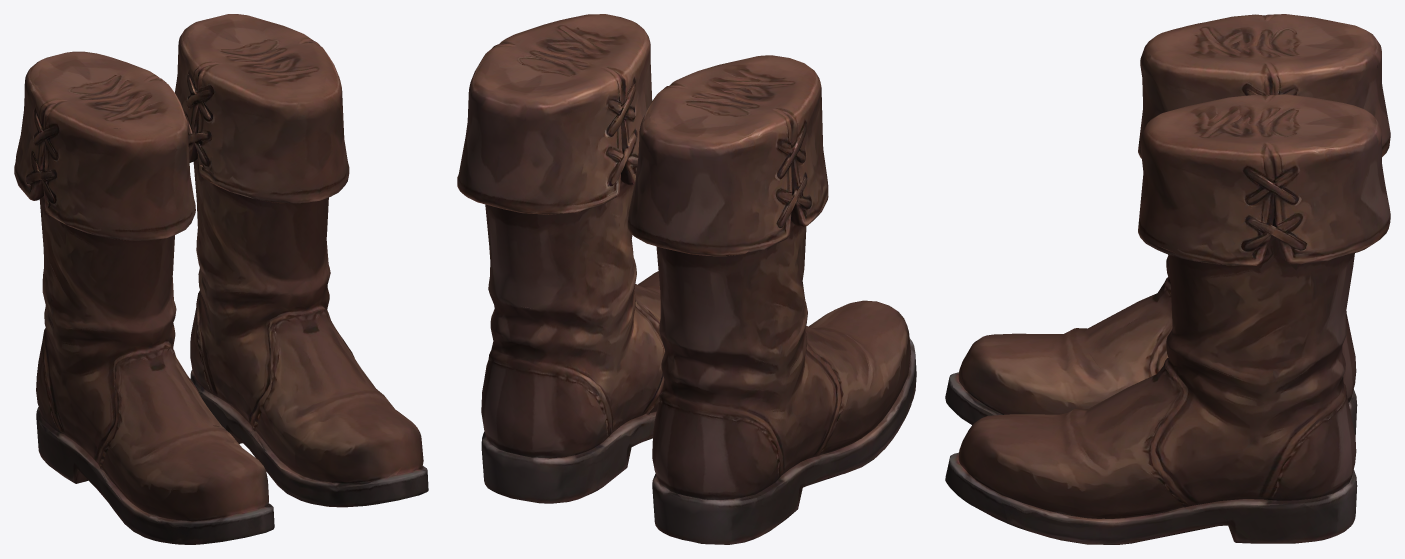
Rendered from berserk_m_boots.glb.
The picture shows the model from 3 angles, left to right: view 1: azimuth 30°, elevation 25°; view 2: azimuth 150°, elevation 25°; view 3: azimuth 270°, elevation 25°; orthographic projection. The views are drawn at different scales.
Visible parts, largest first — view 1: model; view 2: model; view 3: model.
Boxes of the visible parts, left/top/right/bottom form: model: left=14, top=14, right=428, bottom=544; model: left=457, top=14, right=916, bottom=544; model: left=945, top=14, right=1390, bottom=544.
Bounding box in the file's own units: 0.3398 × 0.4298 × 0.4338.
1 material, 1 textured.
